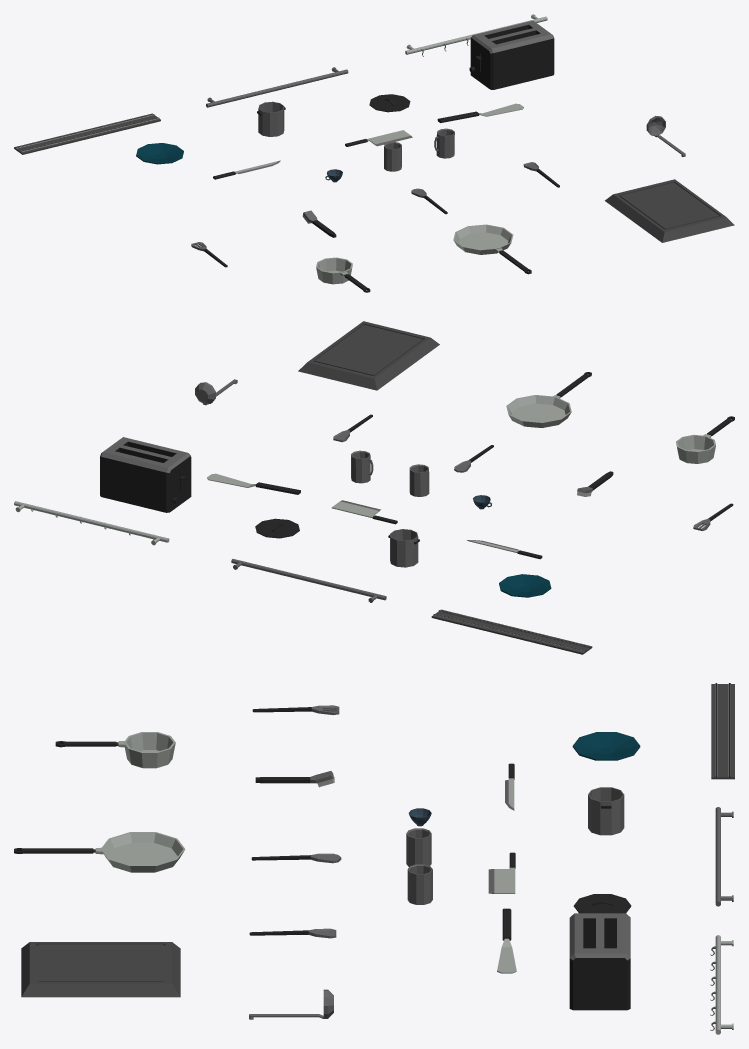
File: KitchenUtensils.fbx
The picture shows the model from 3 angles, top to bottom: view 1: azimuth 30°, elevation 25°; view 2: azimuth 150°, elevation 25°; view 3: azimuth 270°, elevation 25°; orthographic projection. The views are drawn at different scales.
Parts seen in each view (by area): view 1: Cube.006, Cube, Cylinder, Cube.010, Cylinder.004, Cylinder.002, Cylinder.006, Cylinder.009, Cylinder.001, Cylinder.008, Cylinder.010, Cylinder.005 (+2 smaller); view 2: Cube.006, Cube, Cylinder, Cube.010, Cylinder.004, Cylinder.002, Cylinder.006, Cylinder.010, Cylinder.009, Cylinder.001, Cylinder.008, Cylinder.005 (+2 smaller); view 3: Cube, Cube.006, Cylinder, Cube.010, Cylinder.004, Cylinder.002, Cylinder.006, Cylinder.008, Cylinder.001, Cylinder.005, Cylinder.010, Cube.009 (+4 smaller).
Part boxes in pixels (x1,y1,x2,y2): Cube.006: [469, 20, 554, 89]; Cube: [605, 179, 734, 242]; Cylinder: [453, 224, 531, 274]; Cube.010: [14, 113, 160, 154]; Cylinder.004: [316, 257, 370, 292]; Cylinder.002: [257, 101, 285, 136]; Cylinder.006: [136, 143, 183, 164]; Cylinder.009: [206, 67, 348, 107]; Cylinder.001: [369, 94, 410, 112]; Cylinder.008: [434, 128, 454, 158]; Cylinder.010: [405, 14, 547, 56]; Cylinder.005: [384, 141, 401, 171]; Cube.006: [100, 437, 191, 512]; Cube: [298, 321, 439, 390]; Cylinder: [506, 372, 591, 427]; Cube.010: [431, 609, 592, 654]; Cylinder.004: [676, 416, 734, 463]; Cylinder.002: [388, 529, 419, 567]; Cylinder.006: [499, 574, 551, 597]; Cylinder.010: [14, 501, 169, 545]; Cylinder.009: [231, 559, 386, 602]; Cylinder.001: [255, 518, 299, 538]; Cylinder.008: [351, 450, 373, 483]; Cylinder.005: [409, 464, 429, 496]; Cube: [21, 942, 180, 997]; Cube.006: [569, 913, 630, 1010]; Cylinder: [14, 832, 185, 872]; Cube.010: [711, 683, 734, 779]; Cylinder.004: [55, 732, 175, 768]; Cylinder.002: [588, 787, 624, 835]; Cylinder.006: [572, 732, 640, 760]; Cylinder.008: [407, 864, 432, 904]; Cylinder.001: [573, 894, 631, 913]; Cylinder.005: [406, 828, 431, 866]; Cylinder.010: [710, 935, 733, 1034]; Cube.009: [488, 852, 515, 893].
Bounding box in the file's own units: 503 × 37.41 × 432.
2 materials, 2 textured.
